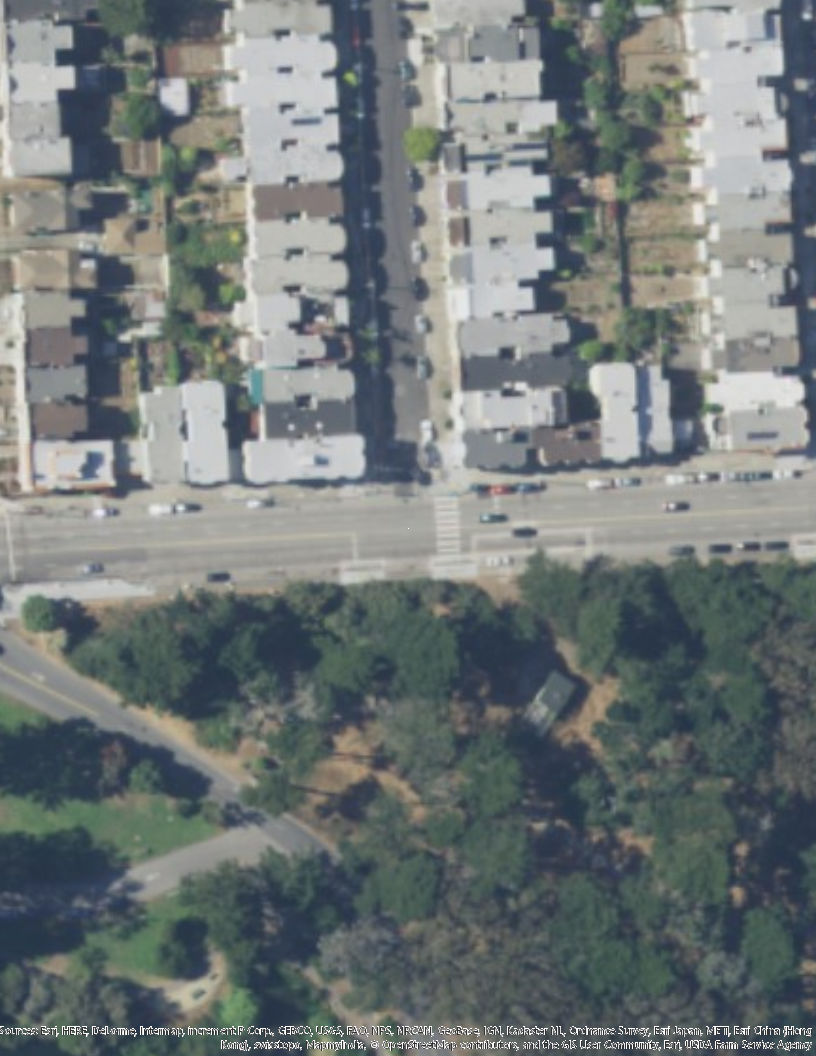zebracross: (432, 494, 462, 557)
